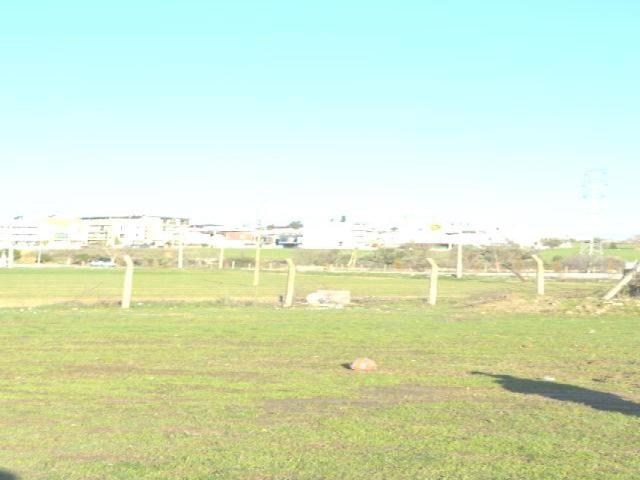iha: (396, 218, 479, 230)
